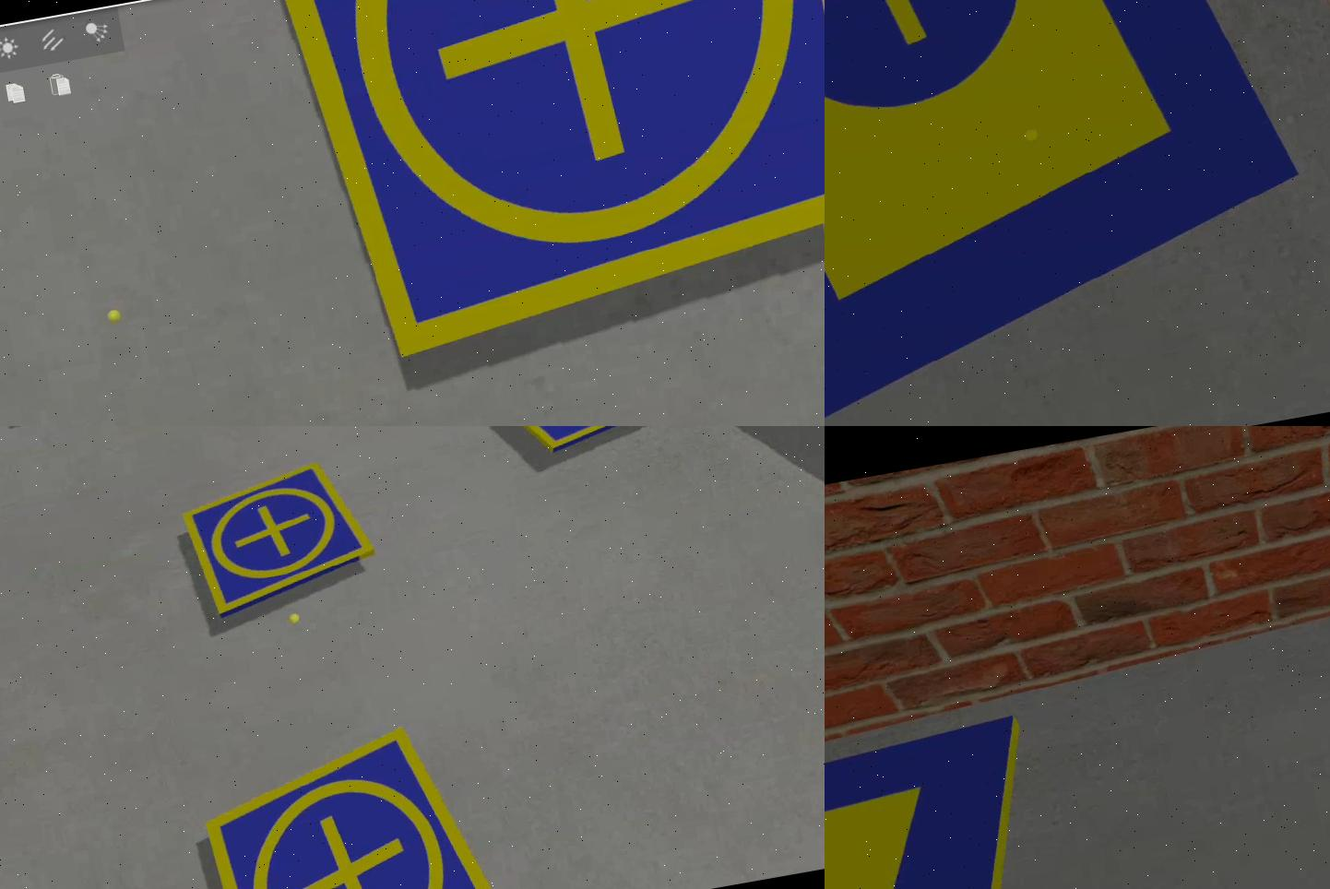large_base: (825, 1, 1325, 427), (825, 714, 1098, 889)
small_base: (275, 1, 825, 374), (196, 712, 517, 889), (177, 455, 385, 624), (474, 427, 681, 469)
